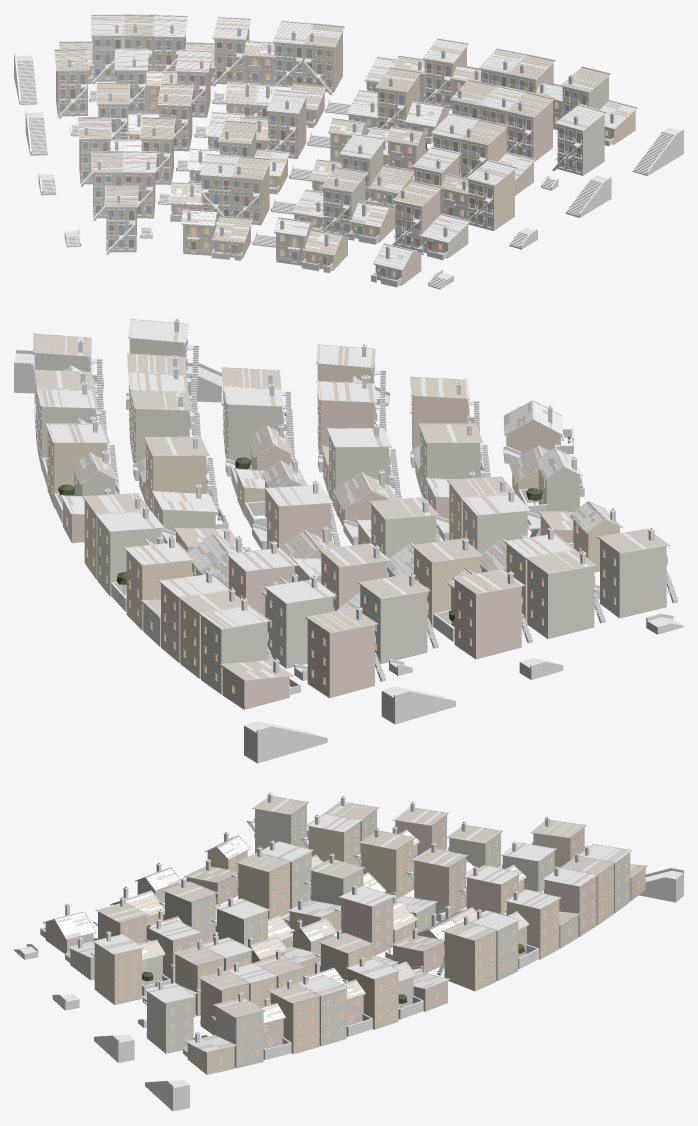
The model's file is bld_moradas_NE.glb.
The picture shows the model from 3 angles, top to bottom: view 1: azimuth 30°, elevation 25°; view 2: azimuth 150°, elevation 25°; view 3: azimuth 270°, elevation 25°; orthographic projection. The views are drawn at different scales.
Parts seen in each view (by area): view 1: Morada_NE_041_Body, Morada_NE_017_Body, Morada_NE_042_Body, Morada_NE_008_Body, STAIRS_Terrace_Lateral_Morada_NE_04, Morada_NE_064_Body, Morada_NE_012_Body, Morada_NE_035_Body, Morada_NE_010_Body, STAIRS_Terrace_Lateral_Morada_NE_03, Morada_NE_006_Body, Morada_NE_046_Body (+97 smaller); view 2: Morada_NE_054_Body, Morada_NE_028_Body, Morada_NE_016_Body, Morada_NE_006_Body, Morada_NE_040_Body, Morada_NE_071_Body, Morada_NE_053_Body, Morada_NE_046_Body, Morada_NE_010_Body, Morada_NE_031_Body, Morada_NE_021_Body, Morada_NE_035_Body (+83 smaller); view 3: Morada_NE_064_Body, Morada_NE_017_Body, Morada_NE_038_Body, Morada_NE_041_Body, Morada_NE_035_Body, Morada_NE_012_Body, Morada_NE_026_Body, Morada_NE_056_Body, Morada_NE_058_Body, Morada_NE_061_Body, Morada_NE_006_Body, Morada_NE_067_Body (+83 smaller).
Boxes of the visible parts, x1=… form: Morada_NE_041_Body: x1=552, y1=115, x2=604, y2=175; Morada_NE_017_Body: x1=468, y1=170, x2=514, y2=230; Morada_NE_042_Body: x1=507, y1=101, x2=552, y2=161; Morada_NE_008_Body: x1=392, y1=190, x2=440, y2=250; STAIRS_Terrace_Lateral_Morada_NE_04: x1=632, y1=127, x2=683, y2=175; Morada_NE_064_Body: x1=303, y1=31, x2=342, y2=95; Morada_NE_012_Body: x1=232, y1=164, x2=269, y2=225; Morada_NE_035_Body: x1=268, y1=98, x2=306, y2=158; Morada_NE_010_Body: x1=322, y1=175, x2=365, y2=236; STAIRS_Terrace_Lateral_Morada_NE_03: x1=565, y1=175, x2=611, y2=217; Morada_NE_006_Body: x1=106, y1=207, x2=136, y2=254; Morada_NE_046_Body: x1=377, y1=75, x2=419, y2=129; Morada_NE_054_Body: x1=307, y1=620, x2=385, y2=698; Morada_NE_028_Body: x1=454, y1=581, x2=532, y2=659; Morada_NE_016_Body: x1=527, y1=560, x2=605, y2=638; Morada_NE_006_Body: x1=600, y1=540, x2=677, y2=618; Morada_NE_040_Body: x1=360, y1=585, x2=438, y2=663; Morada_NE_071_Body: x1=201, y1=616, x2=273, y2=694; Morada_NE_053_Body: x1=266, y1=590, x2=334, y2=668; Morada_NE_046_Body: x1=146, y1=443, x2=218, y2=513; Morada_NE_010_Body: x1=420, y1=430, x2=490, y2=499; Morada_NE_031_Body: x1=225, y1=397, x2=294, y2=465; Morada_NE_021_Body: x1=329, y1=435, x2=401, y2=511; Morada_NE_035_Body: x1=267, y1=492, x2=340, y2=549; Morada_NE_064_Body: x1=437, y1=932, x2=496, y2=991; Morada_NE_017_Body: x1=90, y1=943, x2=141, y2=1004; Morada_NE_038_Body: x1=406, y1=857, x2=466, y2=915; Morada_NE_041_Body: x1=143, y1=992, x2=193, y2=1053; Morada_NE_035_Body: x1=334, y1=897, x2=393, y2=955; Morada_NE_012_Body: x1=231, y1=863, x2=289, y2=918; Morada_NE_026_Body: x1=353, y1=840, x2=413, y2=898; Morada_NE_056_Body: x1=211, y1=1006, x2=263, y2=1068; Morada_NE_058_Body: x1=269, y1=993, x2=319, y2=1054; Morada_NE_061_Body: x1=342, y1=969, x2=398, y2=1029; Morada_NE_006_Body: x1=246, y1=804, x2=306, y2=853; Morada_NE_067_Body: x1=499, y1=899, x2=559, y2=959.
Size of what is drawn, in the model's own units: 128 by 17.3 by 128.
23 materials, 19 textured.
